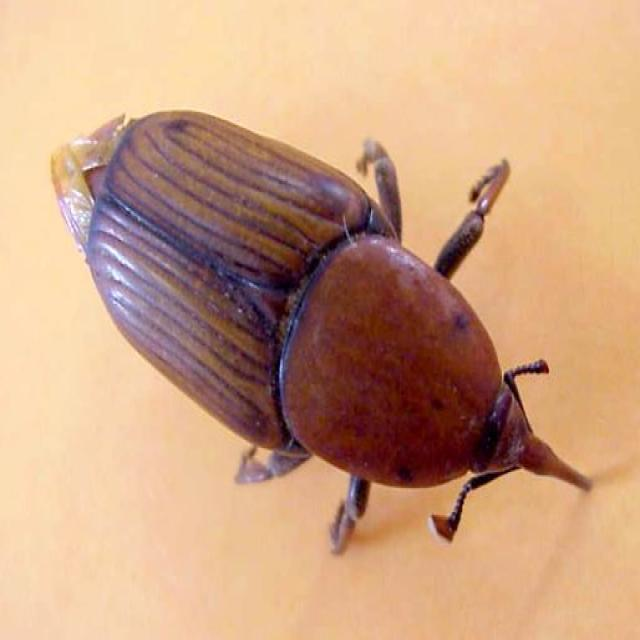Red-palm-weevil: (44, 99, 595, 545)
